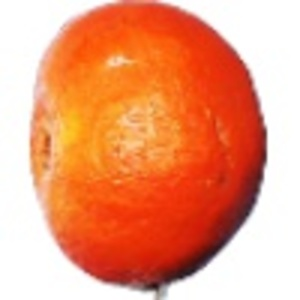tangerina: (26, 1, 269, 300)
